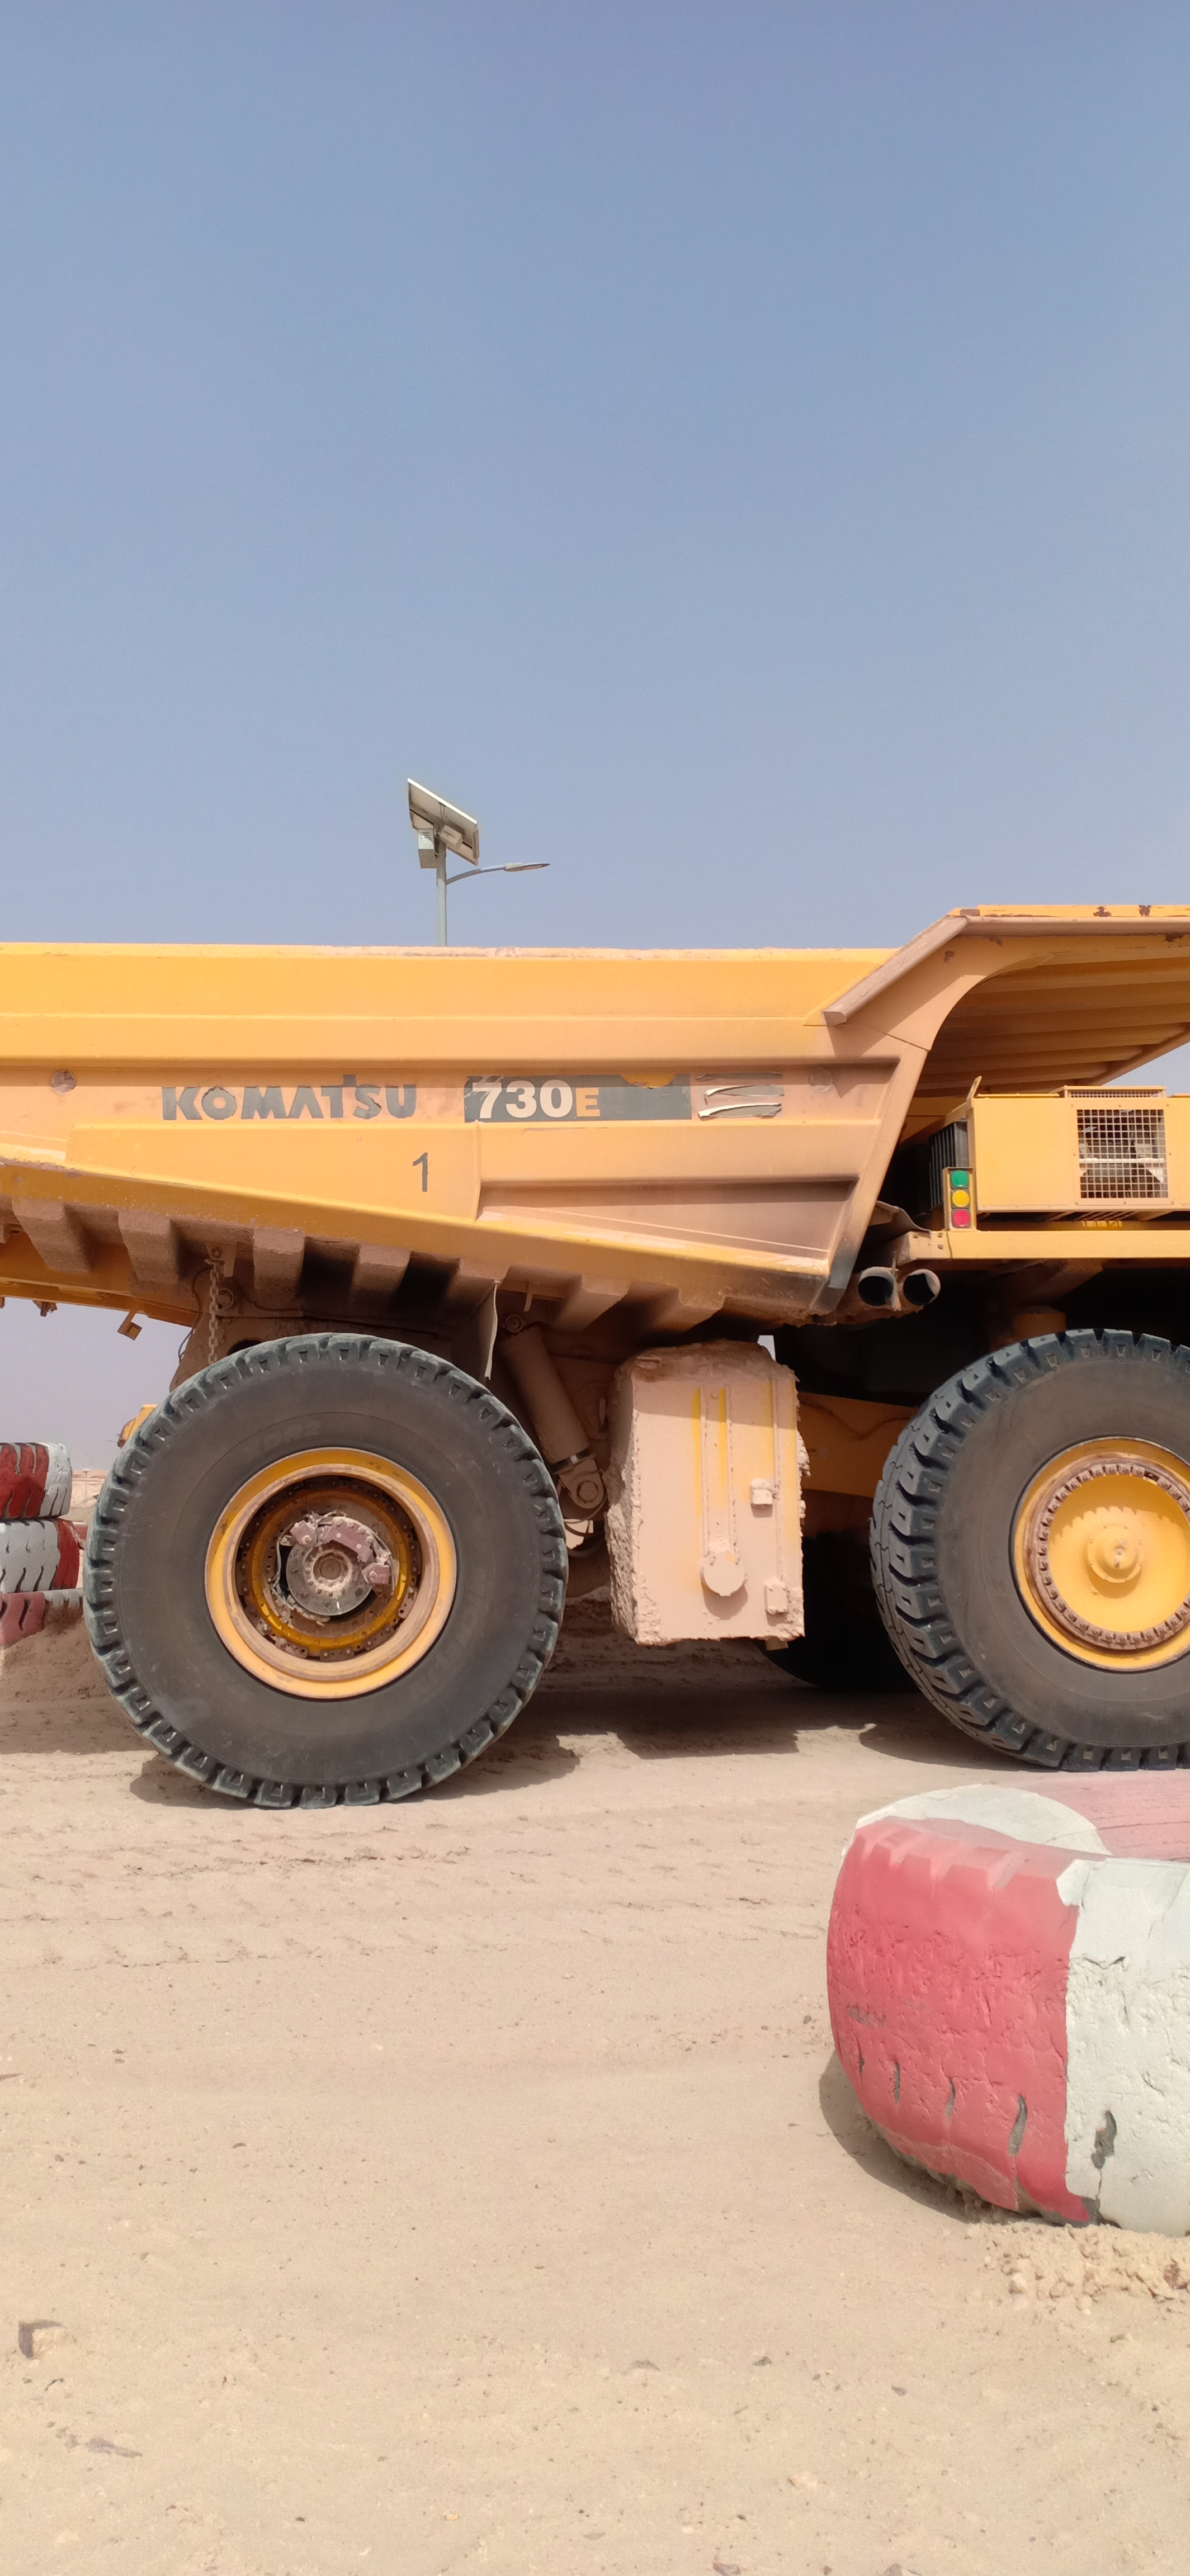camion: (0, 890, 1183, 1830)
